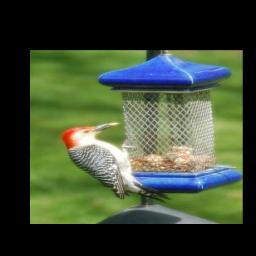Woodpecker: (62, 119, 179, 206)
